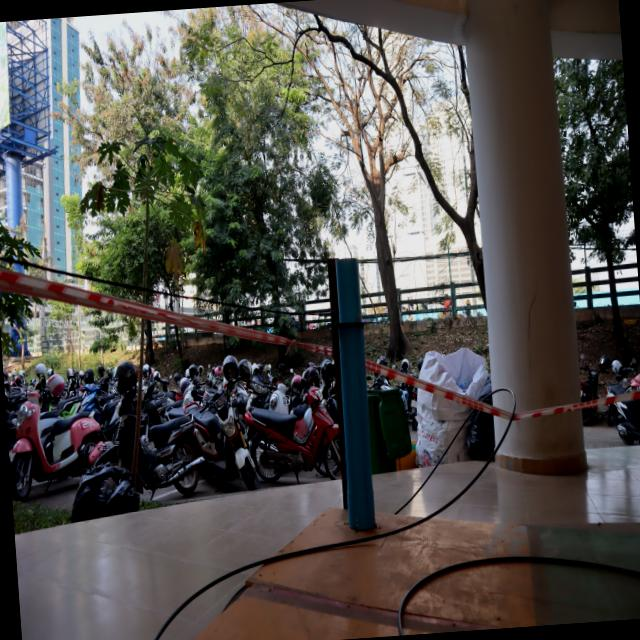pole: (312, 248, 388, 383)
